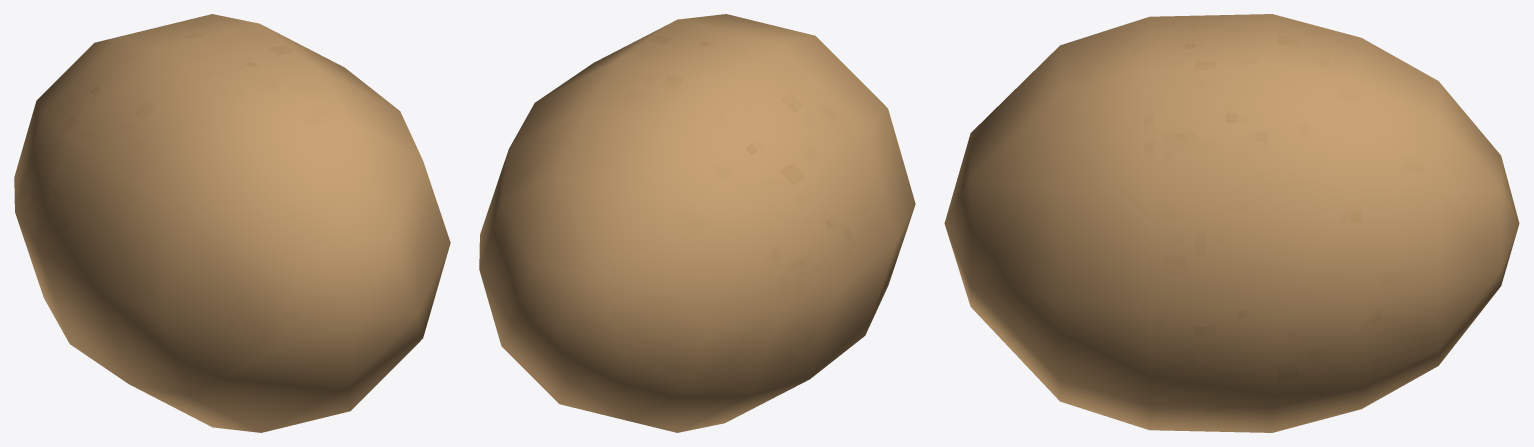
Rendered from BrownEgg.fbx.
3 views of the same model, side by side, from view 1: azimuth 30°, elevation 25°; view 2: azimuth 150°, elevation 25°; view 3: azimuth 270°, elevation 25° (orthographic). The views are drawn at different scales.
Parts seen in each view (by area): view 1: Egg001; view 2: Egg001; view 3: Egg001.
Boxes of the visible parts, x1,y1,x2,y2 form: Egg001: (14, 14, 450, 432); Egg001: (479, 14, 915, 432); Egg001: (944, 14, 1519, 432).
Bounding box in the file's own units: 11.67 × 11.1 × 15.9.
